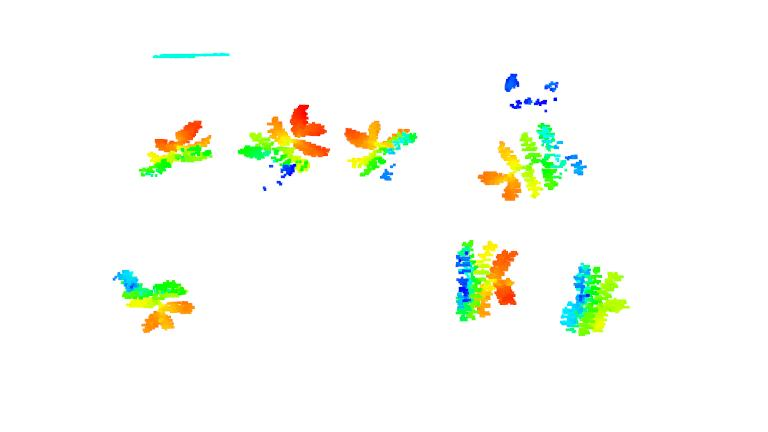chickpea: (235, 101, 332, 190), (479, 122, 586, 202), (451, 238, 520, 325), (110, 267, 195, 333), (559, 261, 628, 338), (138, 115, 215, 182), (343, 120, 419, 183)
